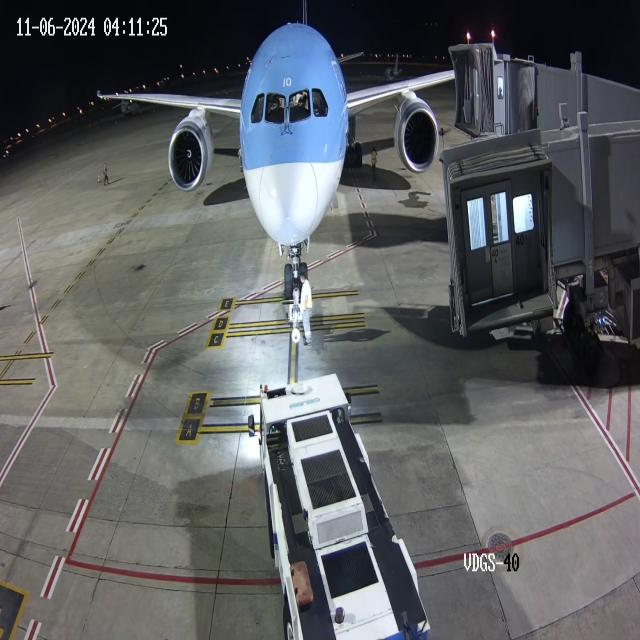bridge: (487, 26, 538, 134)
plane: (92, 20, 438, 302)
window: (247, 84, 330, 128)
